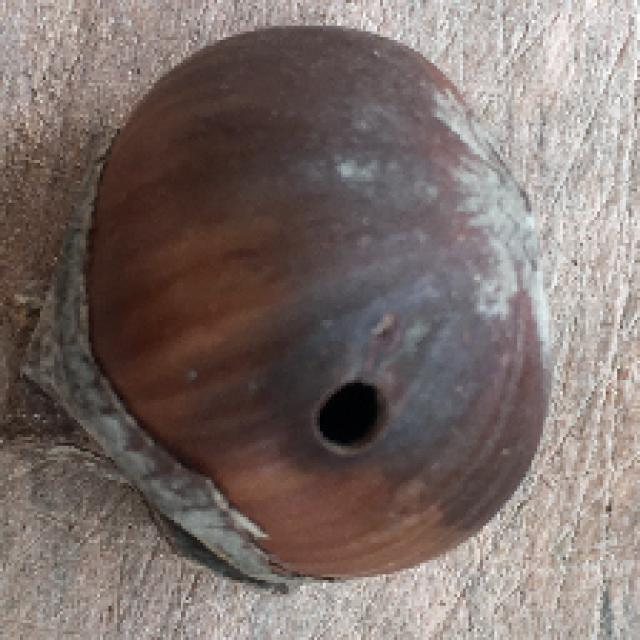damagedHazelnut: (31, 29, 551, 582)
